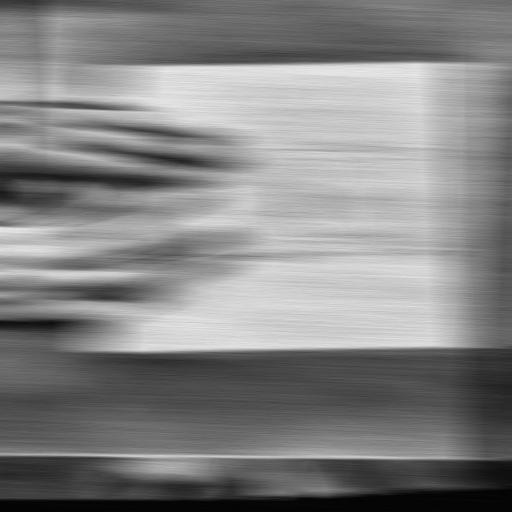bottom_left: (81, 350, 112, 354)
bottom_right: (104, 64, 135, 68)
mobile: (122, 144, 468, 260)
top_left: (459, 342, 492, 350)
top_right: (447, 59, 477, 64)
